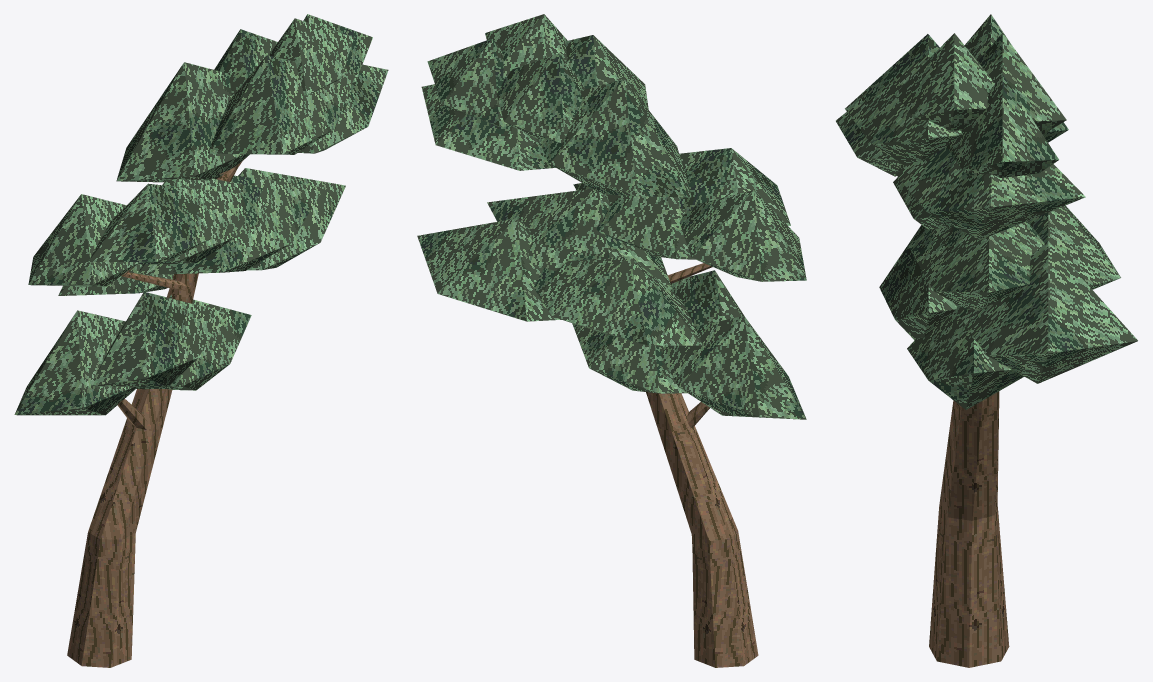
File: coastal-pine.glb
The picture shows the model from 3 angles, left to right: view 1: azimuth 30°, elevation 25°; view 2: azimuth 150°, elevation 25°; view 3: azimuth 270°, elevation 25°; orthographic projection. The views are drawn at different scales.
Visible parts, largest first — view 1: Pine_WindwardCrown, Pine_LeaningBranches; view 2: Pine_WindwardCrown, Pine_LeaningBranches; view 3: Pine_WindwardCrown, Pine_LeaningBranches.
Part boxes in pixels (x1,y1,x2,y2): Pine_WindwardCrown: (14, 14, 388, 415); Pine_LeaningBranches: (67, 157, 246, 667); Pine_WindwardCrown: (417, 14, 806, 419); Pine_LeaningBranches: (606, 194, 758, 667); Pine_WindwardCrown: (836, 14, 1137, 409); Pine_LeaningBranches: (929, 391, 1009, 667).
Bounding box in the file's own units: 3.94 × 5.88 × 2.21.
Materials: 2 (2 with a texture image).
